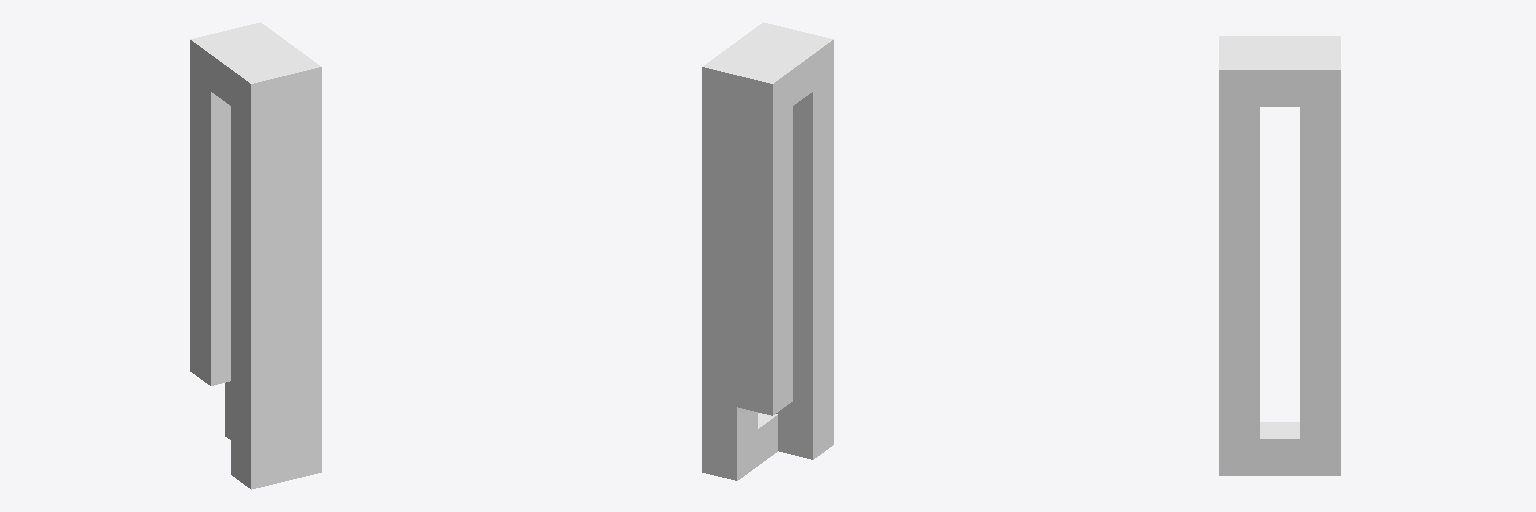
The model's file is Skeleton1-2.obj.
The picture shows the model from 3 angles: view 1: azimuth 30°, elevation 25°; view 2: azimuth 150°, elevation 25°; view 3: azimuth 270°, elevation 25°; orthographic projection.
Parts seen in each view (by area): view 1: object 1; view 2: object 1; view 3: object 1.
Boxes of the visible parts, <box> form: object 1: <box>190,22,321,489</box>; object 1: <box>702,22,833,480</box>; object 1: <box>1219,36,1340,475</box>.
Bounding box in the file's own units: 0.2 × 1.1 × 0.3.